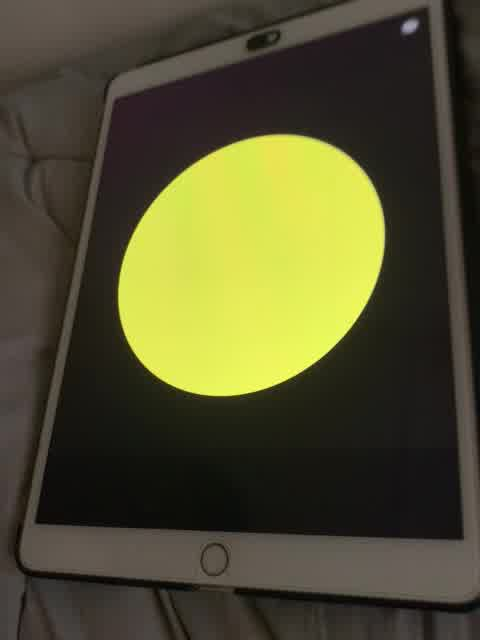left: (115, 129, 407, 409)
